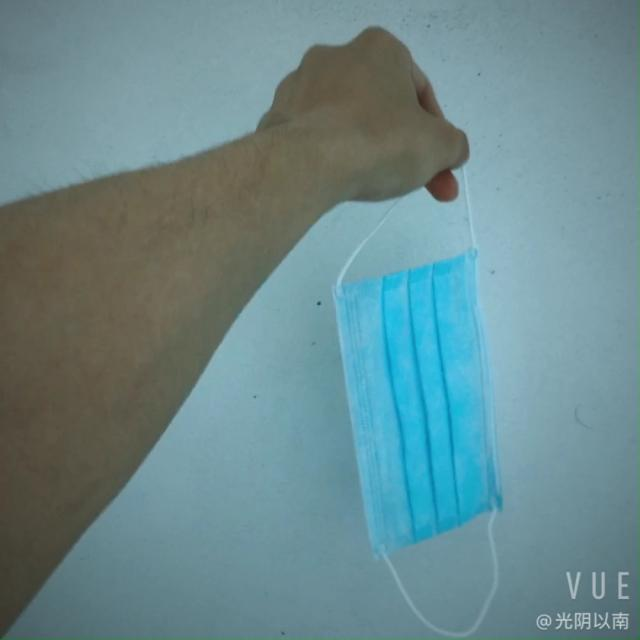non-organic waste: (323, 246, 514, 556)
